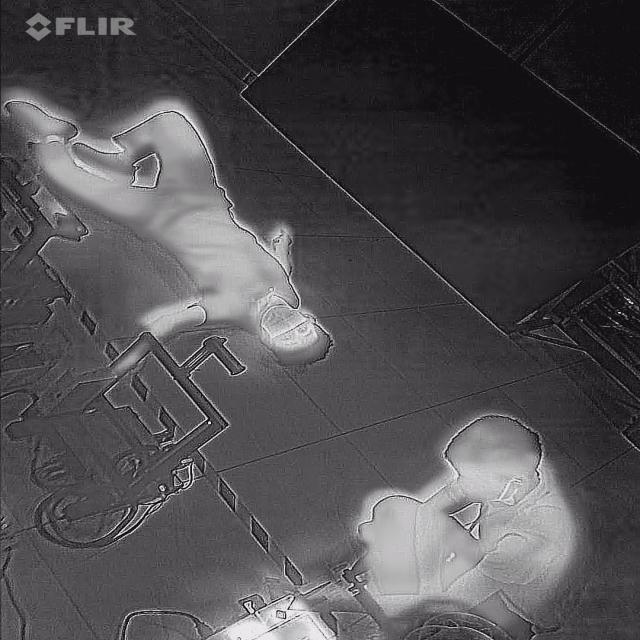Victim: (1, 81, 344, 373), (322, 400, 599, 640)
